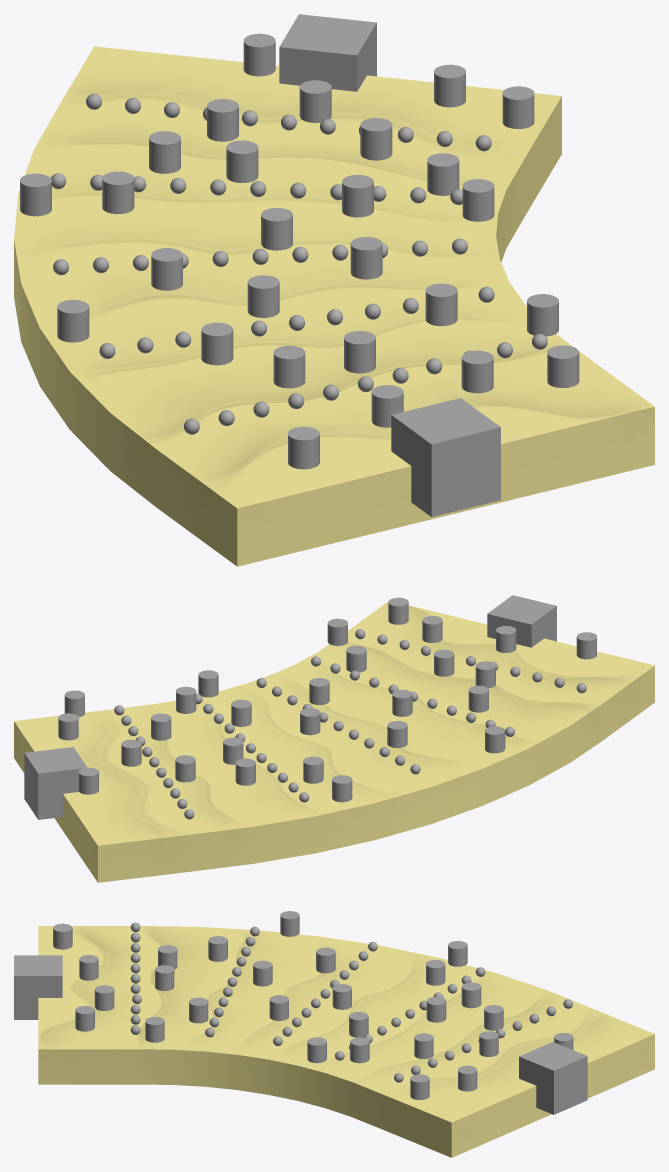
Rendered from assets002_Streckenteil_rechts001.fbx.
The picture shows the model from 3 angles, top to bottom: view 1: azimuth 30°, elevation 25°; view 2: azimuth 150°, elevation 25°; view 3: azimuth 270°, elevation 25°; orthographic projection. The views are drawn at different scales.
Visible parts, largest first — view 1: streckenteil_rechtskurve_geo1, b (×10), a (×10), startpoint, c (×6), startpoint1, d; view 2: streckenteil_rechtskurve_geo1, b (×10), a (×10), startpoint1, c (×6), startpoint, d; view 3: streckenteil_rechtskurve_geo1, b (×10), a (×10), startpoint1, startpoint, c (×5), d.
Boxes of the visible parts, bbox=[...] form: streckenteil_rechtskurve_geo1: bbox=[14, 46, 654, 566]; b (×10): bbox=[20, 64, 494, 317]; a (×10): bbox=[57, 283, 579, 469]; startpoint: bbox=[391, 398, 500, 516]; c (×6): bbox=[149, 33, 534, 217]; startpoint1: bbox=[279, 14, 376, 91]; d: bbox=[360, 118, 392, 160]; streckenteil_rechtskurve_geo1: bbox=[14, 601, 654, 882]; b (×10): bbox=[58, 670, 412, 802]; a (×10): bbox=[327, 597, 596, 753]; startpoint1: bbox=[24, 747, 87, 819]; c (×6): bbox=[64, 690, 255, 794]; startpoint: bbox=[487, 595, 556, 647]; d: bbox=[151, 713, 171, 740]; streckenteil_rechtskurve_geo1: bbox=[38, 926, 654, 1157]; b (×10): bbox=[253, 941, 503, 1091]; a (×10): bbox=[53, 911, 299, 1042]; startpoint1: bbox=[519, 1042, 587, 1114]; startpoint: bbox=[14, 955, 62, 1019]; c (×5): bbox=[349, 982, 498, 1099]; d: bbox=[414, 1033, 433, 1058].
Size of the model in its own units: 47.84 by 6.68 by 65.87.
